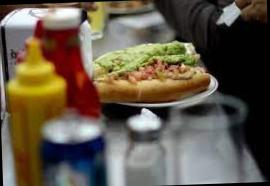Completos: (90, 39, 210, 100)
